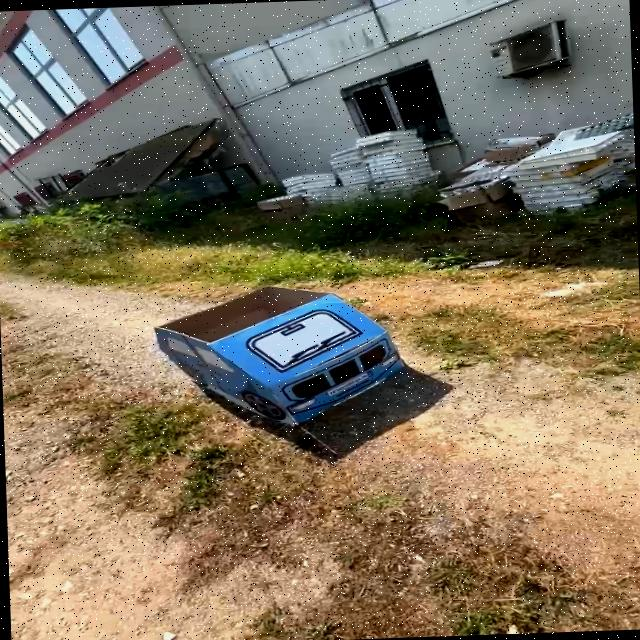blue_car: (122, 270, 448, 441)
